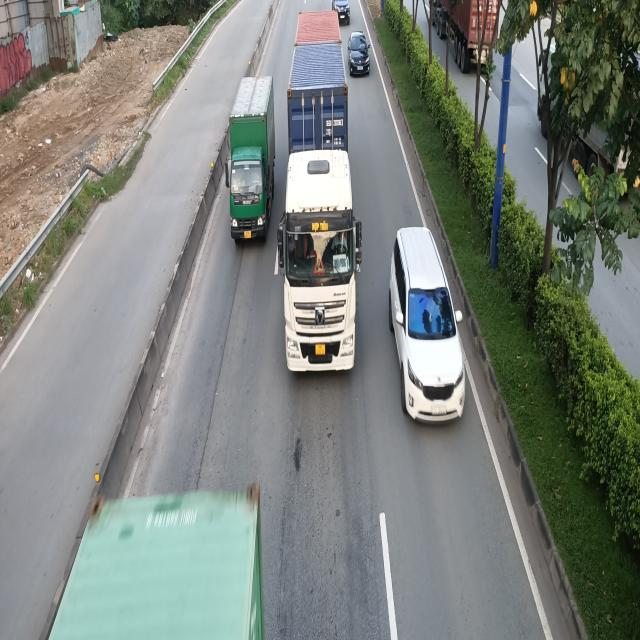car: (391, 228, 468, 427), (348, 29, 372, 74)
container: (277, 8, 363, 371)
truck: (223, 76, 275, 242)
